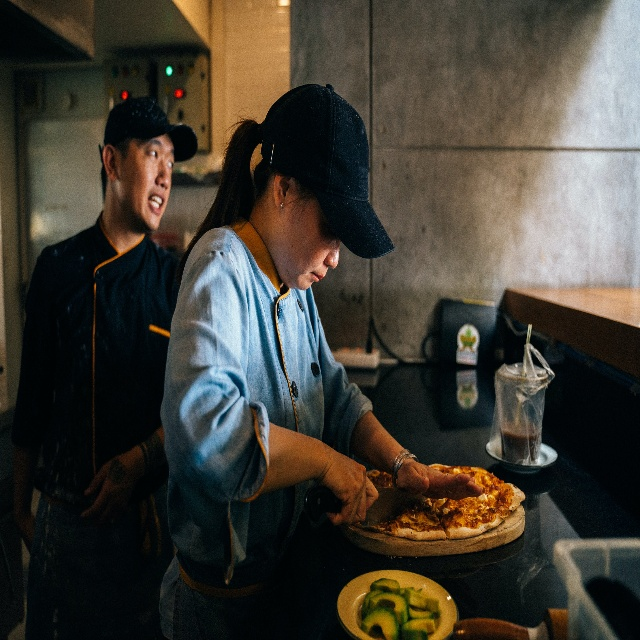Sin_guantes: (320, 449, 379, 525), (395, 453, 484, 501), (80, 452, 135, 521)
